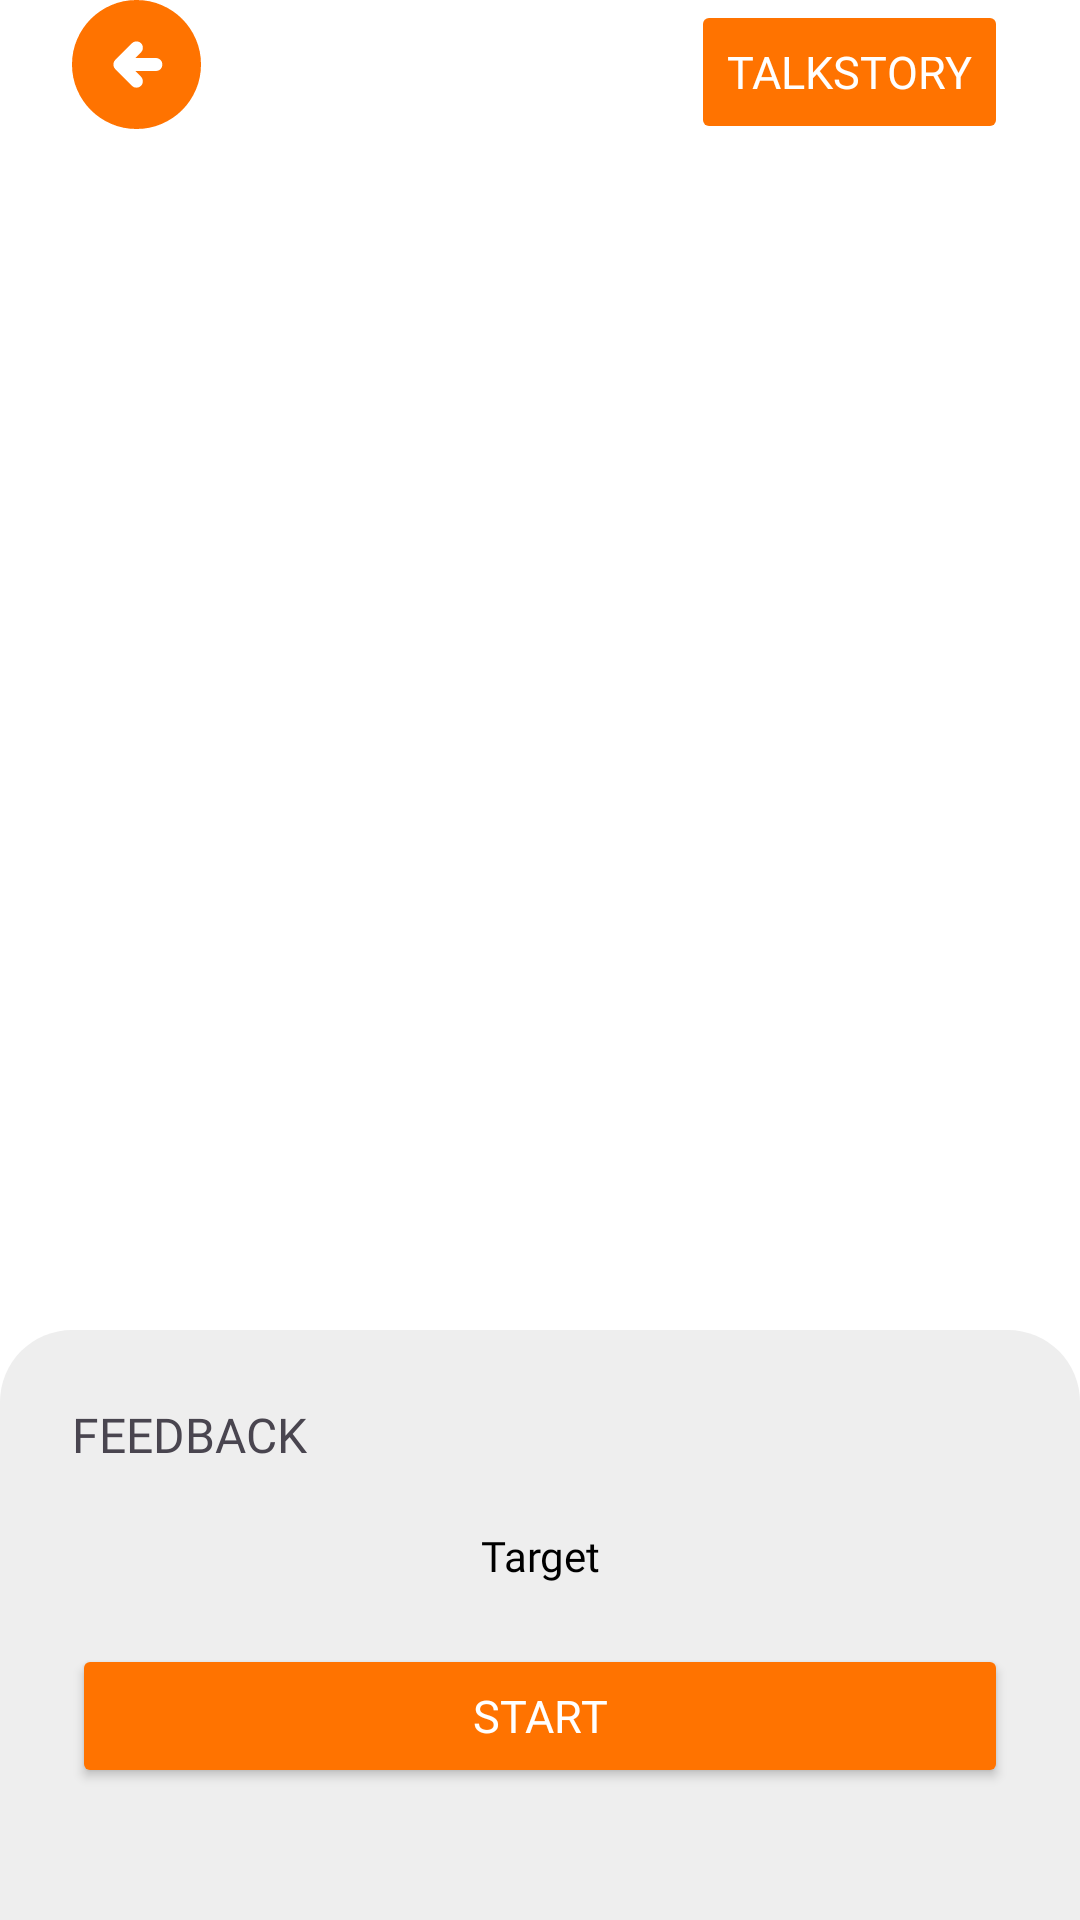

Screen size 1080 × 1920. Icon name, then its box in pixels as (left=x1, top=y1, right=x2, bottom=y2):
back: (left=72, top=0, right=201, bottom=129)
